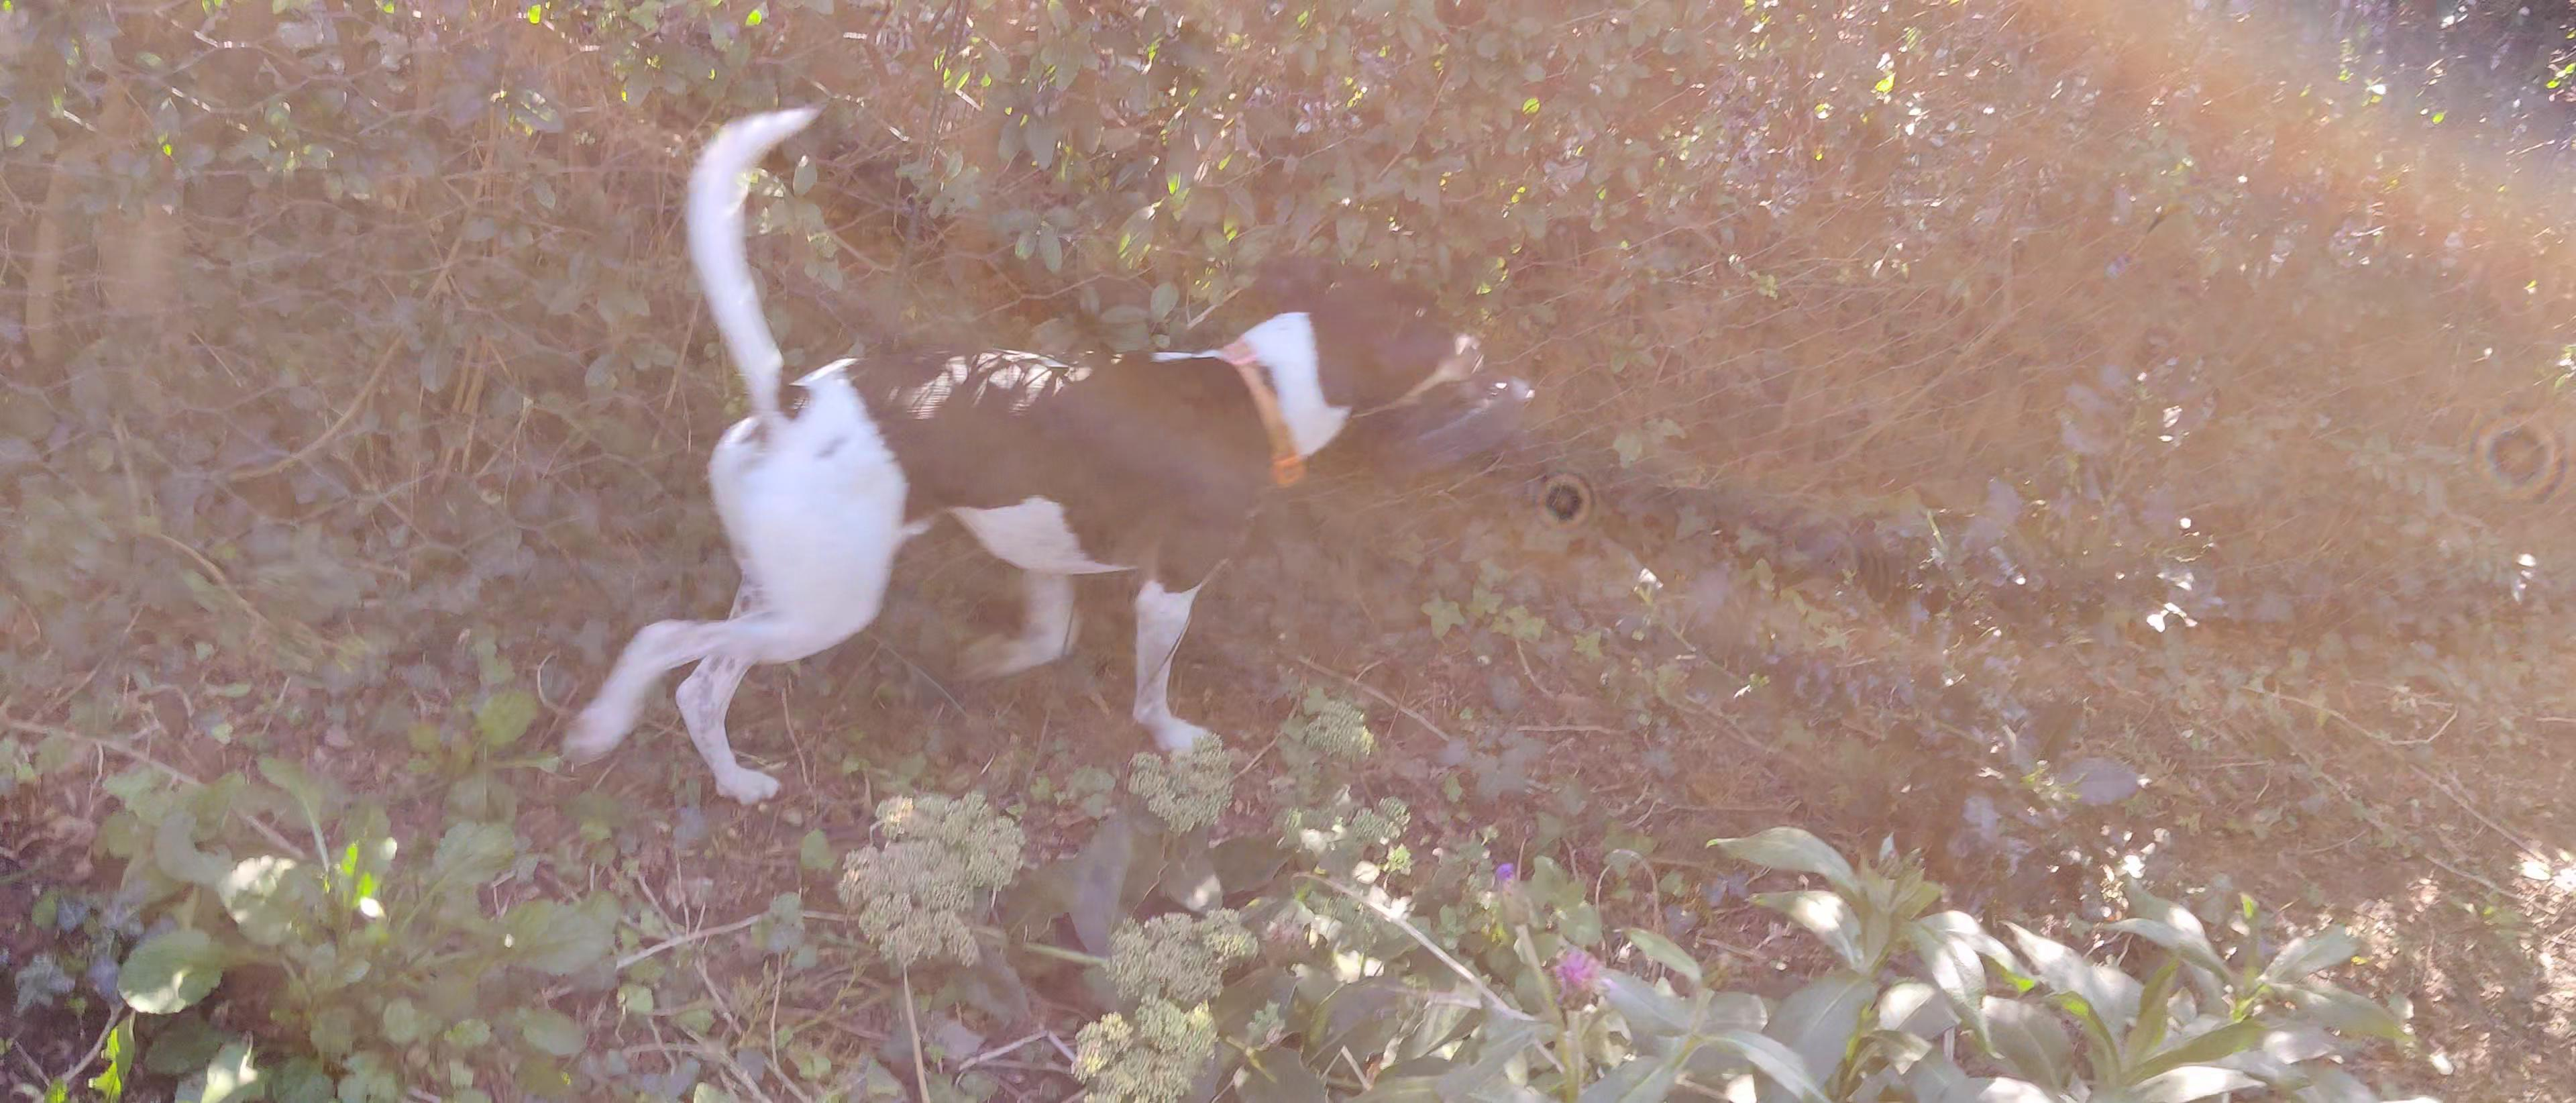Dog: (547, 102, 1493, 815)
